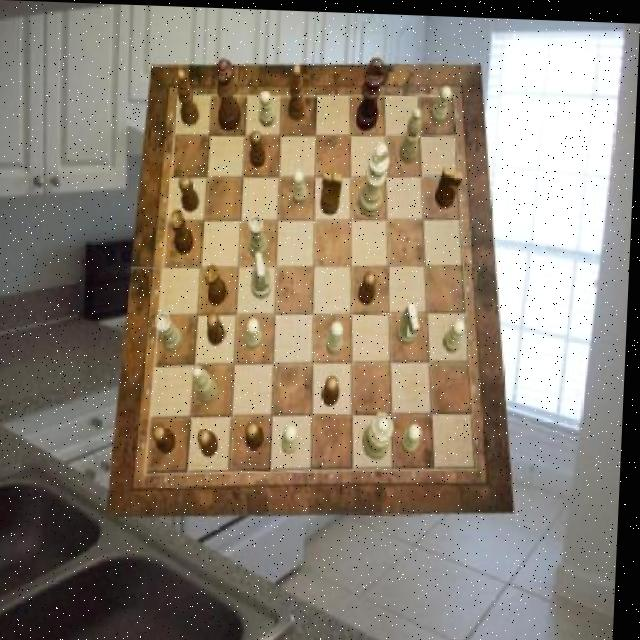bishop: (176, 68, 203, 124), (288, 61, 308, 119)
black-bishop: (356, 55, 385, 130)
black-king: (436, 165, 465, 206), (322, 168, 344, 213)
black-knight: (180, 175, 203, 212), (155, 422, 180, 452), (251, 129, 270, 167), (208, 311, 229, 345), (361, 268, 379, 302), (325, 373, 344, 404), (201, 427, 222, 455), (249, 420, 269, 448)
black-pawn: (213, 55, 244, 130)
black-queen: (172, 206, 198, 253), (207, 262, 231, 304)
black-rook: (401, 104, 423, 159), (195, 365, 223, 403)
white-bishop: (359, 140, 391, 215)
white-king: (399, 300, 424, 343), (254, 251, 276, 297)
white-knight: (432, 84, 453, 124), (445, 315, 469, 349), (260, 89, 278, 126), (328, 318, 347, 353), (293, 167, 310, 204), (247, 315, 266, 348), (405, 422, 426, 451), (285, 422, 303, 454)
white-pawn: (366, 408, 399, 457)
white-queen: (158, 311, 187, 350), (250, 214, 272, 257)
